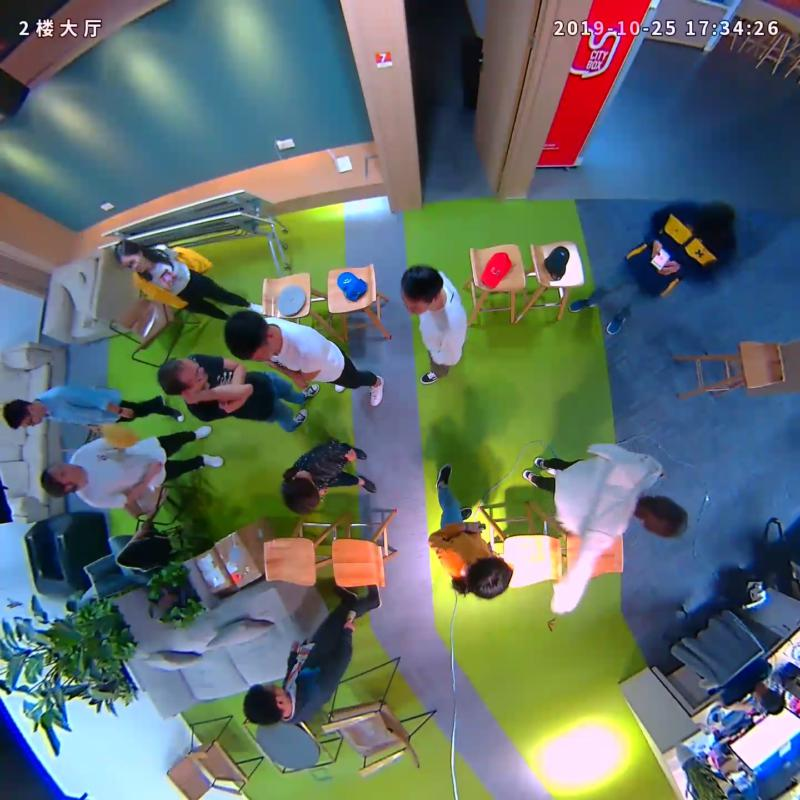head: (223, 311, 274, 362), (401, 263, 444, 317), (640, 495, 686, 539), (242, 683, 288, 727), (158, 357, 209, 395), (467, 557, 512, 600), (40, 463, 85, 496), (282, 476, 321, 514), (695, 202, 736, 238), (4, 396, 43, 433), (114, 239, 148, 273)
